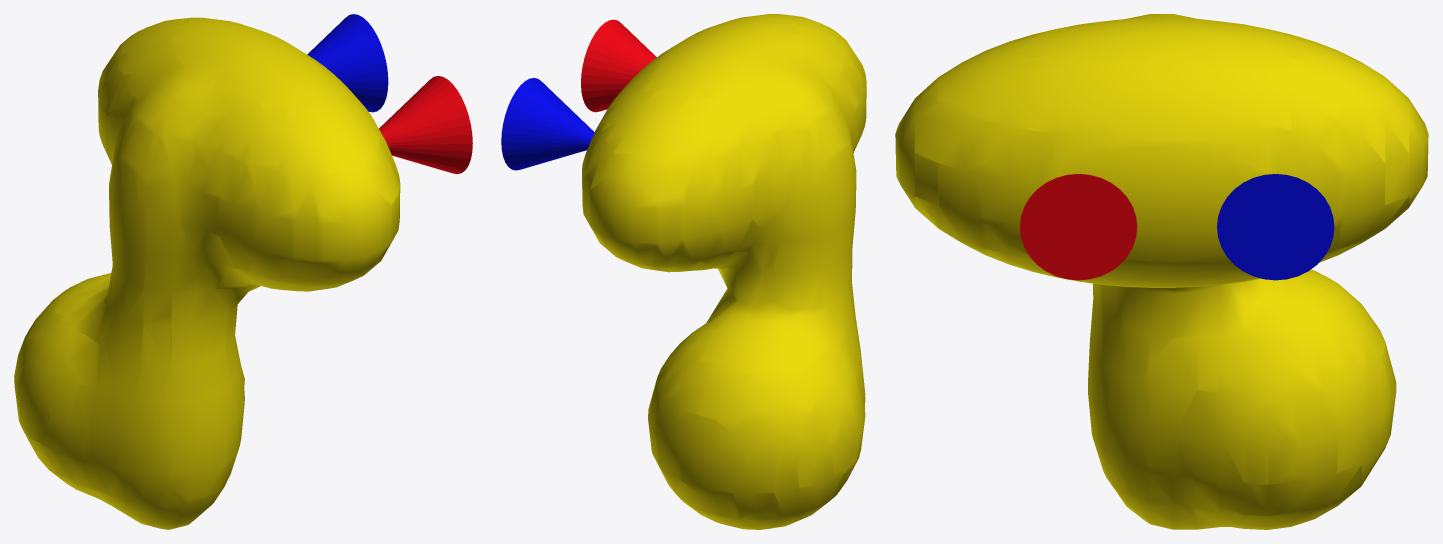
File: Jill.fbx
3 renders of one model, left to right at view 1: azimuth 30°, elevation 25°; view 2: azimuth 150°, elevation 25°; view 3: azimuth 270°, elevation 25°, orthographic. The views are drawn at different scales.
Parts seen in each view (by area): view 1: Mball, Cone.001, Cone; view 2: Mball, Cone, Cone.001; view 3: Mball, Cone, Cone.001.
Boxes of the visible parts, x1,y1,x2,y2 form: Mball: (14, 17, 400, 529); Cone.001: (379, 76, 472, 174); Cone: (307, 14, 388, 112); Mball: (582, 14, 866, 529); Cone: (501, 78, 594, 170); Cone.001: (581, 19, 656, 112); Mball: (895, 14, 1428, 529); Cone: (1217, 174, 1334, 280); Cone.001: (1020, 174, 1137, 280).
Size of the model in its own units: 3895 by 5045 by 4536.
